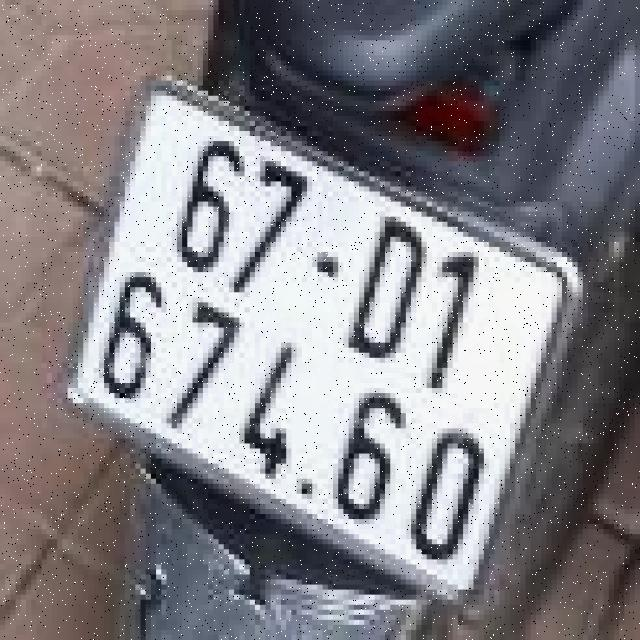0: (404, 412, 500, 574)
1: (407, 236, 500, 414)
4: (222, 333, 337, 493)
6: (322, 374, 426, 540), (156, 131, 262, 292), (90, 257, 184, 416)
7: (142, 293, 262, 446), (214, 151, 329, 310)
D: (339, 202, 450, 378)
